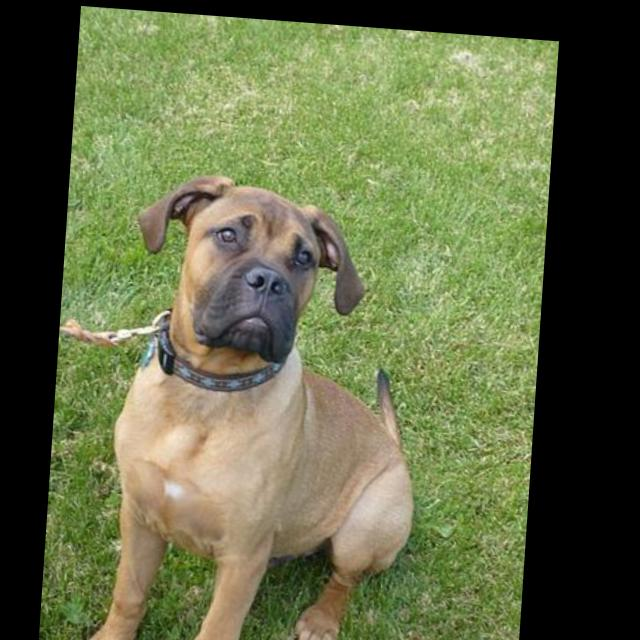bullmastiff: (75, 163, 441, 640)
